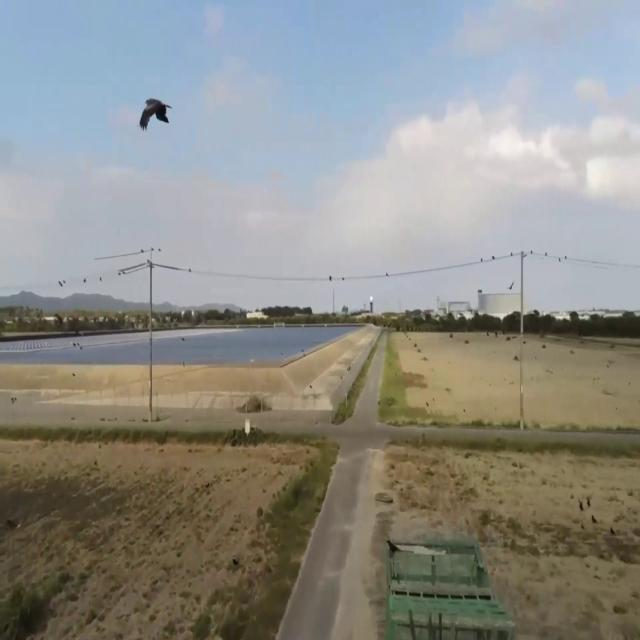bird: (137, 78, 172, 155), (58, 272, 66, 293), (581, 492, 588, 514)
